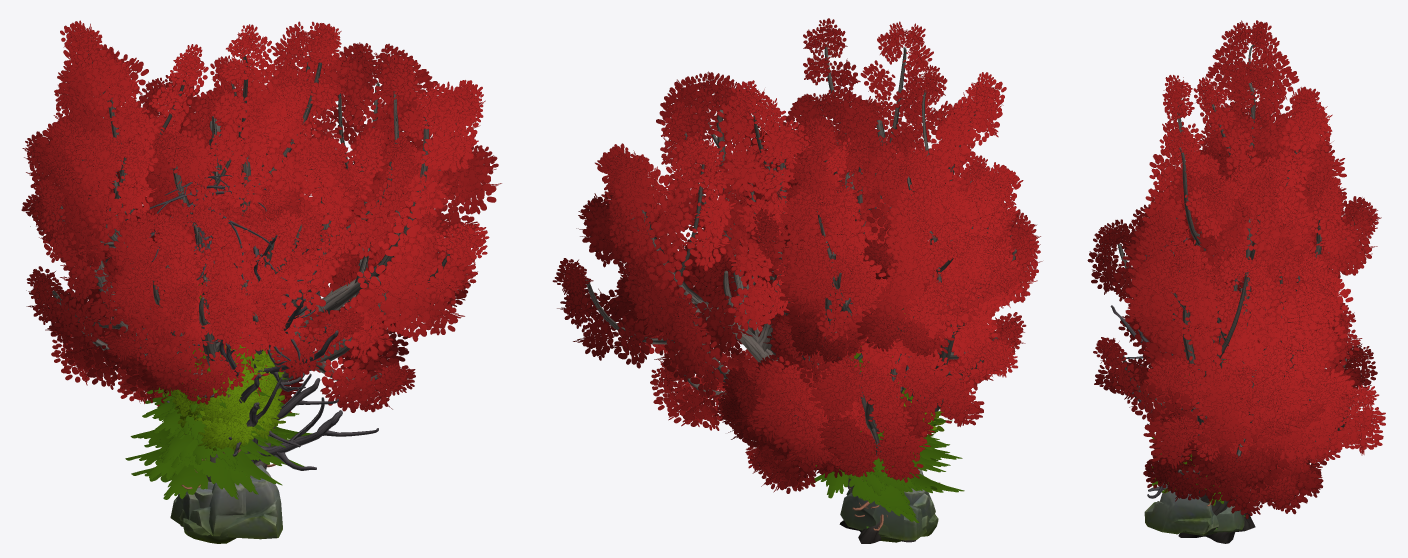
The model's file is nature.glb.
3 renders of one model, left to right at view 1: azimuth 30°, elevation 25°; view 2: azimuth 150°, elevation 25°; view 3: azimuth 270°, elevation 25°, orthographic. The views are drawn at different scales.
Visible parts, largest first — view 1: TwistedTree_2, TwistedTree_1, TwistedTree_3, DeadTree_2, Rock_Medium_3, Pine_2, Pine_5, Pine_4, CommonTree_3, CommonTree_2, CommonTree_1, Rock_Medium_1 (+3 smaller); view 2: TwistedTree_1, TwistedTree_2, TwistedTree_3, Pine_5, Rock_Medium_2, Pine_2, Pine_4; view 3: TwistedTree_1, TwistedTree_2, TwistedTree_3, Rock_Medium_3, Rock_Medium_2.
Part boxes in pixels (x1,y1,x2,y2): TwistedTree_2: (21, 20, 341, 481); TwistedTree_1: (154, 21, 501, 526); TwistedTree_3: (50, 55, 421, 412); DeadTree_2: (180, 219, 378, 470); Rock_Medium_3: (183, 465, 282, 543); Pine_2: (131, 410, 291, 499); Pine_5: (125, 369, 312, 494); Pine_4: (130, 283, 288, 489); CommonTree_3: (180, 337, 284, 427); CommonTree_2: (171, 343, 284, 453); CommonTree_1: (173, 347, 286, 450); Rock_Medium_1: (179, 482, 246, 536); TwistedTree_1: (552, 71, 915, 543); TwistedTree_2: (753, 18, 1042, 438); TwistedTree_3: (714, 89, 1040, 493); Pine_5: (815, 353, 954, 515); Rock_Medium_2: (840, 488, 927, 540); Pine_2: (810, 424, 964, 522); Pine_4: (849, 307, 962, 530); TwistedTree_1: (1093, 170, 1385, 543); TwistedTree_2: (1124, 20, 1348, 373); TwistedTree_3: (1087, 145, 1381, 509); Rock_Medium_3: (1144, 484, 1213, 534); Rock_Medium_2: (1213, 506, 1244, 532).
Bounding box in the file's own units: 17.96 × 19.08 × 11.71.
11 materials, 11 textured.
